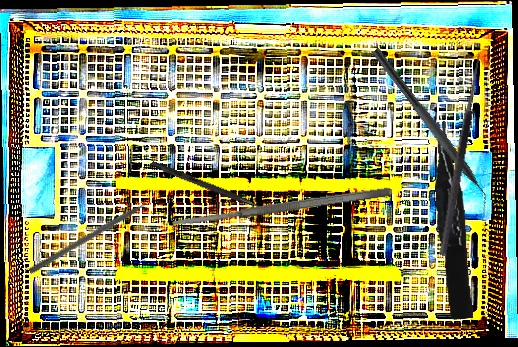Chopper: (361, 47, 500, 217)
Hook Surgical: (428, 49, 485, 257), (150, 161, 279, 216)
Pusher: (28, 192, 164, 276)
Spatula Surgical: (170, 185, 393, 229)
Tissue Forceps: (431, 120, 474, 320)
